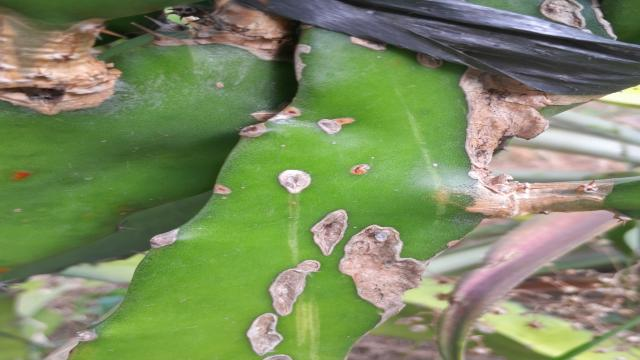stemcanker: (264, 258, 323, 317), (309, 209, 349, 258), (244, 312, 285, 355), (313, 115, 358, 138), (274, 169, 314, 194), (348, 161, 373, 179)
